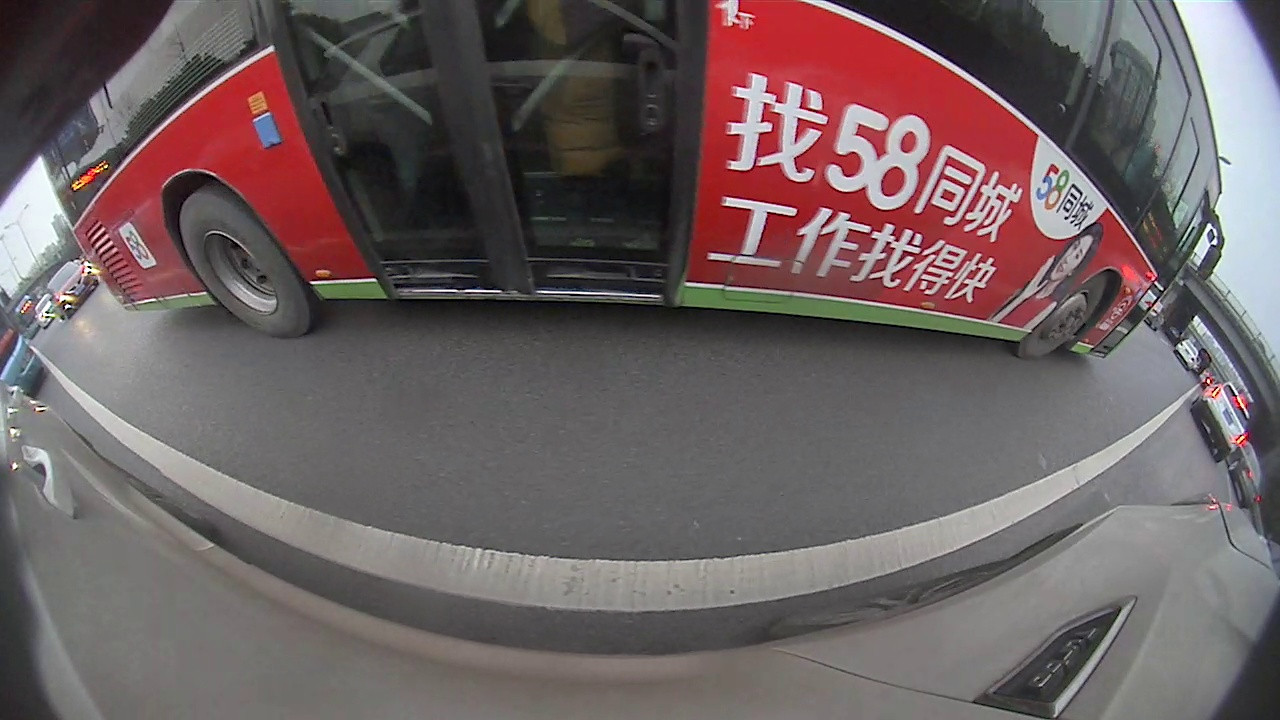bus: (27, 1, 1225, 362)
car: (1191, 381, 1252, 463), (46, 260, 100, 319)
front: (1017, 271, 1116, 361)
rear: (178, 192, 314, 341)
